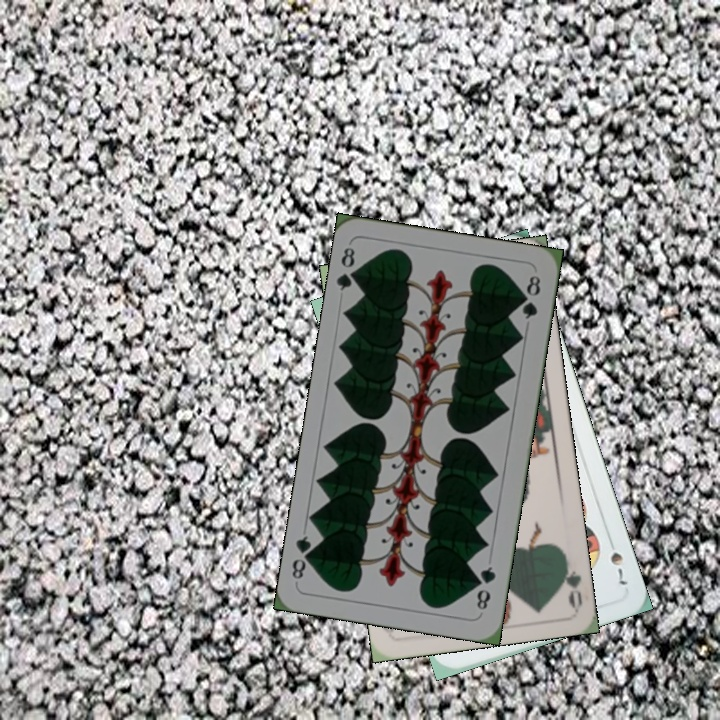G8: (333, 243, 364, 293), (472, 562, 499, 613)
GO: (557, 550, 585, 609)
S7: (606, 547, 631, 588)
